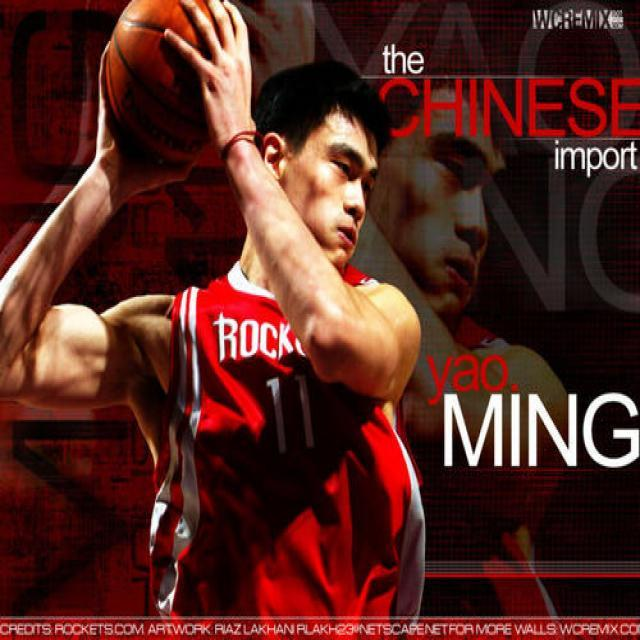rim: (105, 0, 215, 157)
